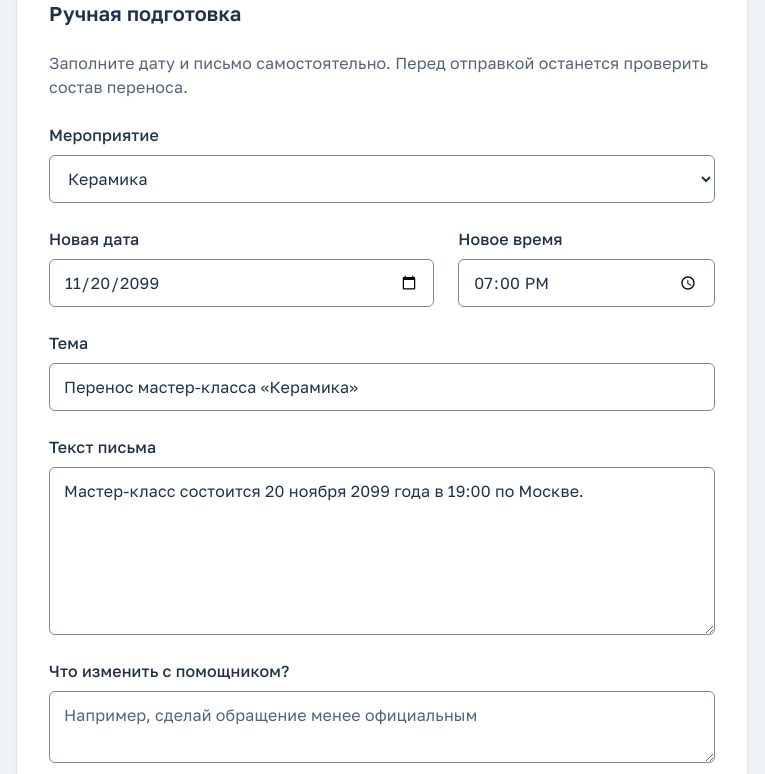
Кабинет организатора — test first › ошибка PATCH перед AI сохраняет местные правки и не вызывает модель
(page scrolled)
Replace the text in the field labelled "Тема" with "Моя несохранённая правка" at (382, 387), box x1=49 y1=363 x2=715 y2=411
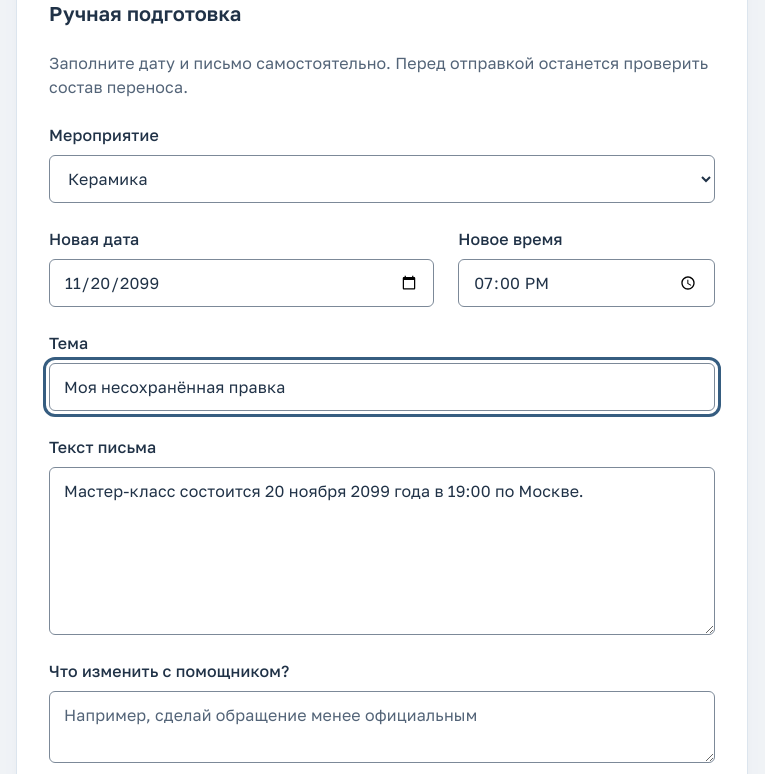
Type "Сделай короче" into the text box labelled "Что изменить с помощником?".
click(382, 727); type("Сделай короче")  # box x1=49 y1=691 x2=715 y2=763
(page scrolled)
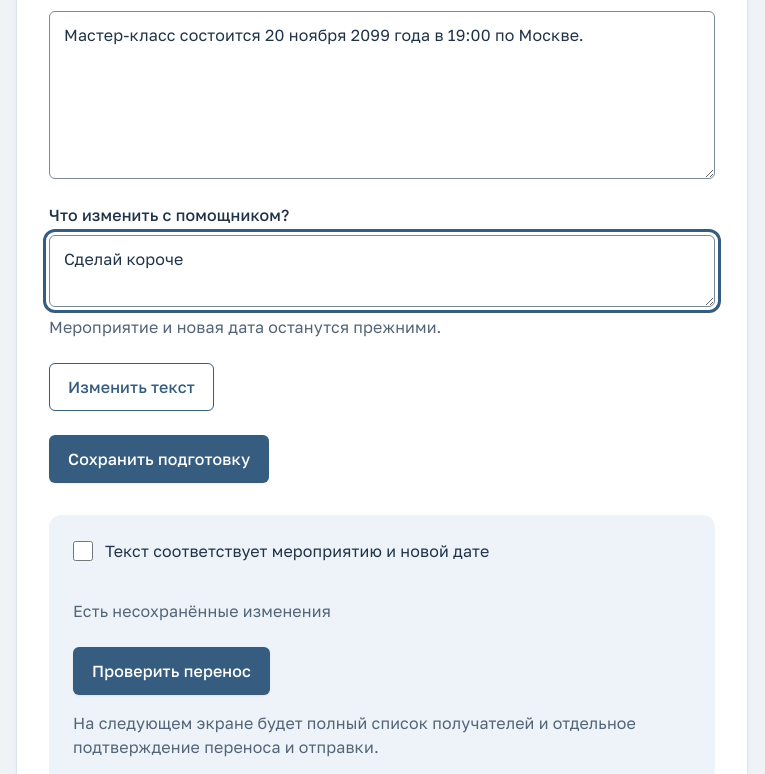
Click the button "Изменить текст".
click(131, 387)  # box x1=49 y1=363 x2=214 y2=411
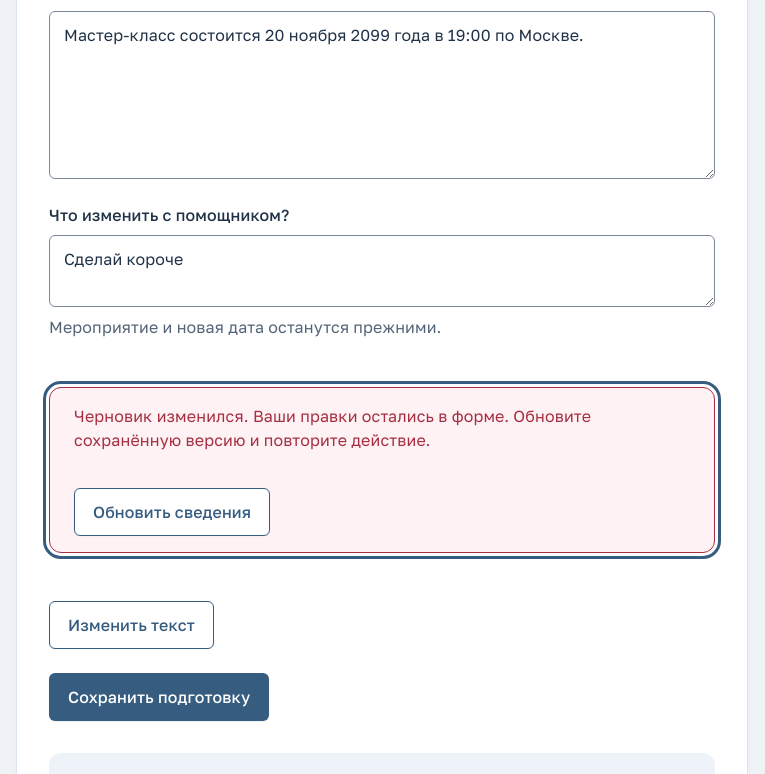
Expected: the message shows "Ваши правки остались в форме", x1=74 y1=406 x2=591 y2=450
Expected: the button "Обновить сведения" is enabled, x1=74 y1=488 x2=270 y2=536
